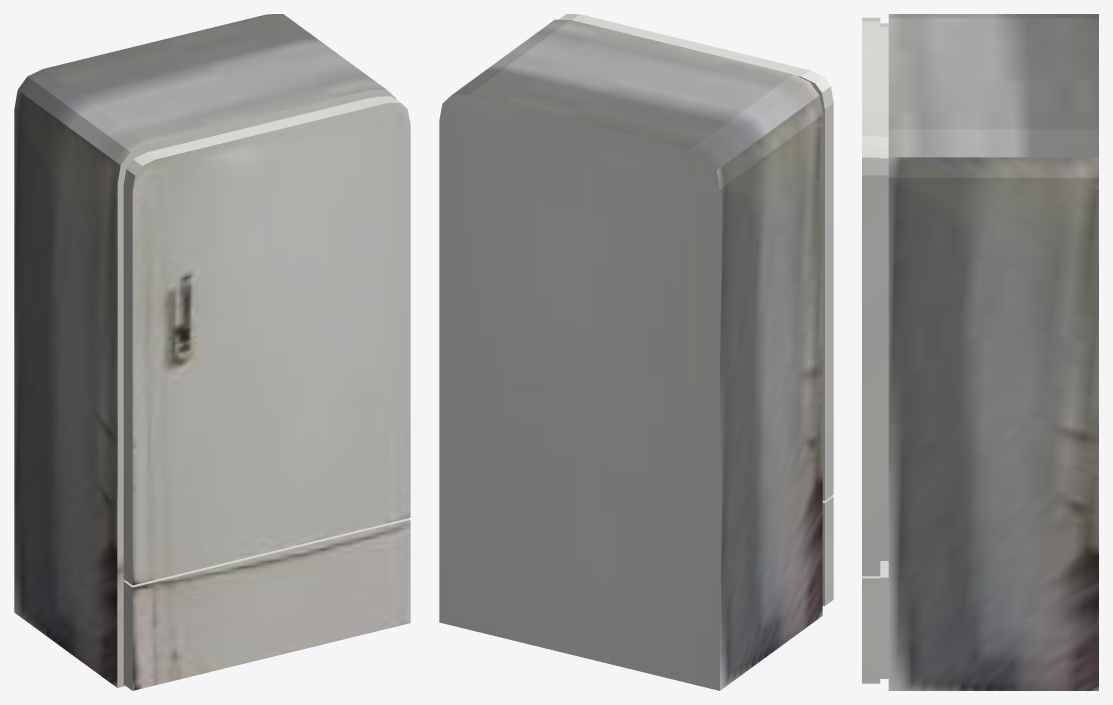
Rendered from old_fridge.FBX.
The picture shows the model from 3 angles, left to right: view 1: azimuth 30°, elevation 25°; view 2: azimuth 150°, elevation 25°; view 3: azimuth 270°, elevation 25°; orthographic projection. The views are drawn at different scales.
Parts seen in each view (by area): view 1: fridge_door, fridge_body, freezer_door; view 2: fridge_body, fridge_door, freezer_door; view 3: fridge_body, fridge_door, freezer_door.
Boxes of the visible parts, x1,y1,x2,y2 form: fridge_door: (123,96,410,585); fridge_body: (14,14,396,687); freezer_door: (123,518,410,690); fridge_body: (439,19,822,690); fridge_door: (559,14,833,500); freezer_door: (822,496,833,605); fridge_body: (888,14,1098,690); fridge_door: (862,17,888,576); freezer_door: (862,561,888,683).
Bounding box in the file's own units: 123 × 223 × 87.52.
